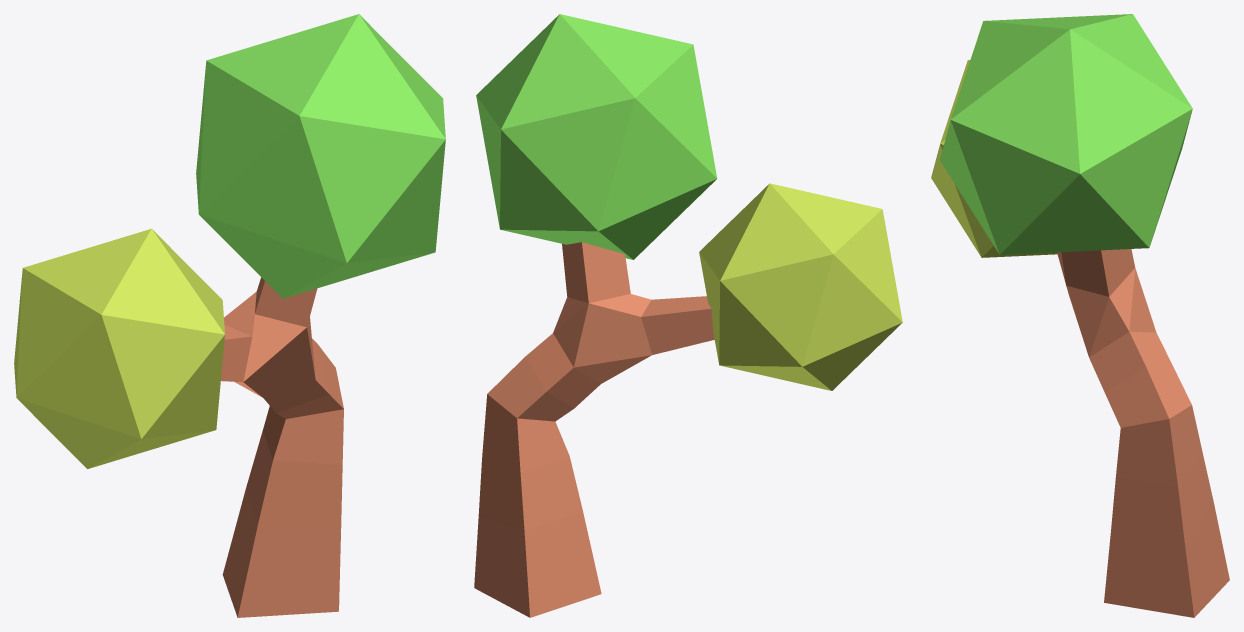
Rendered from Tree 8.fbx.
3 views of the same model, side by side, from view 1: azimuth 30°, elevation 25°; view 2: azimuth 150°, elevation 25°; view 3: azimuth 270°, elevation 25° (orthographic). The views are drawn at different scales.
Parts seen in each view (by area): view 1: Tree 8; view 2: Tree 8; view 3: Tree 8.
Part boxes in pixels (box(x1,y1,x2,y2)): Tree 8: box(14, 14, 445, 617); Tree 8: box(474, 14, 902, 617); Tree 8: box(931, 14, 1229, 617).
Bounding box in the file's own units: 283 × 363 × 171.
